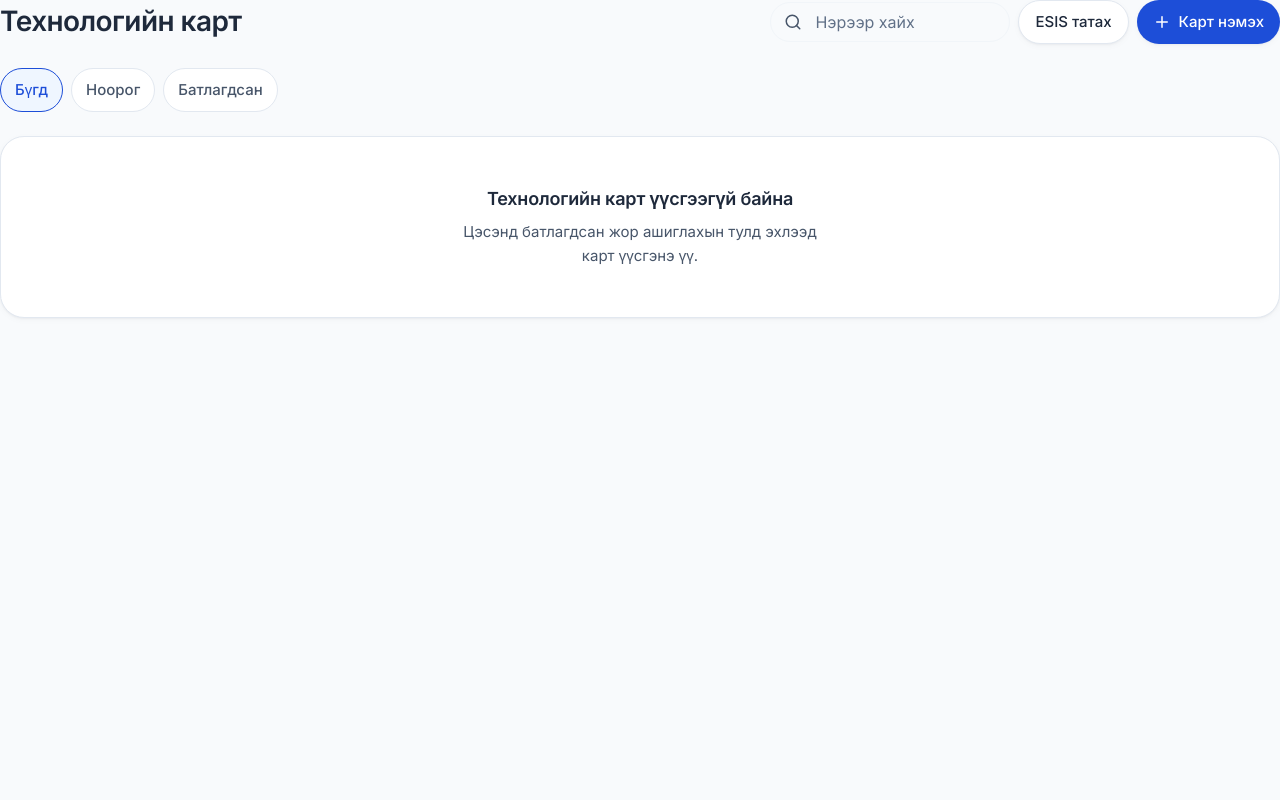
Scenario: ESIS-ээс татах on a new technology card › fills the name and lines, adds a missing material, and names a skipped one
The width and height of the screenshot is (1280, 800).
// Beside «Карт нэмэх», not inside it.
Step 1. Click the button "ESIS татах" → click(1074, 22), box [1018, 0, 1129, 44]
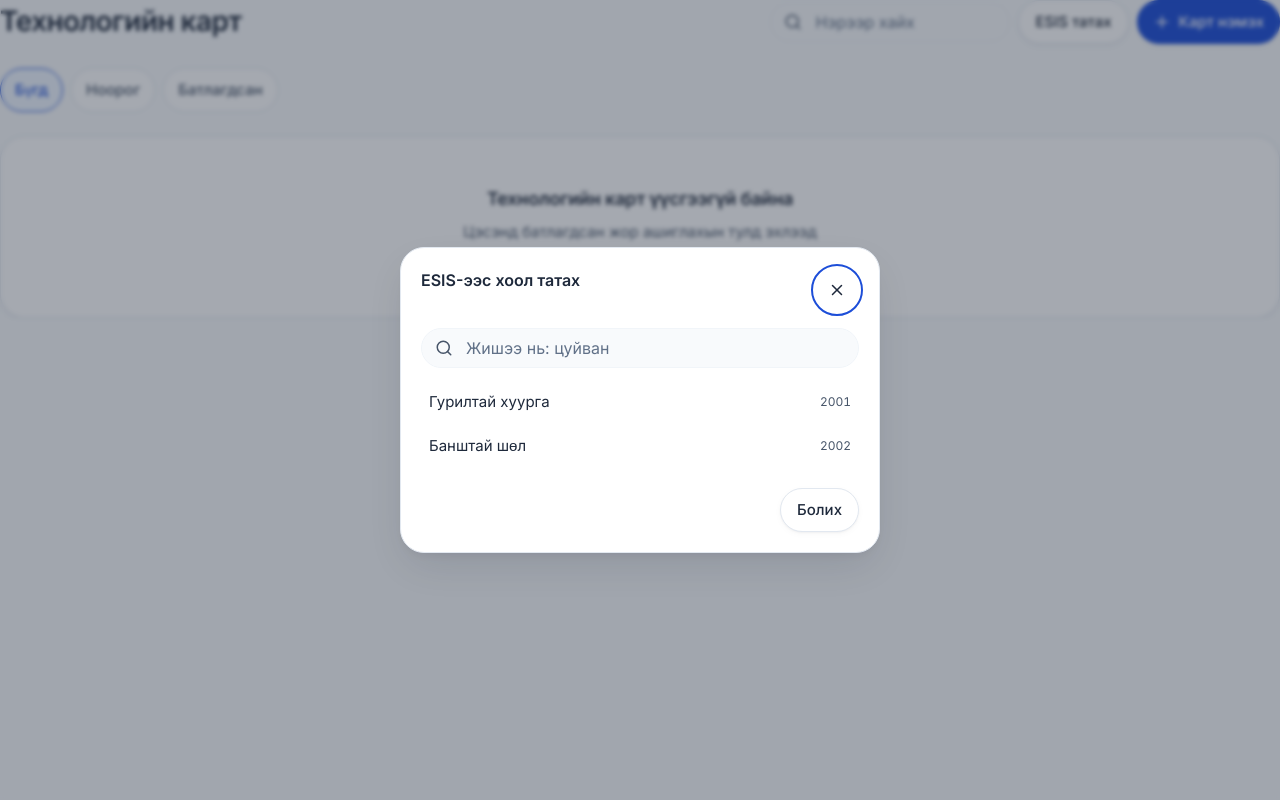
Step 2. Type "хуурга" into the search field named "Хоолны нэрээр хайх" → (640, 348), box [421, 328, 859, 368]
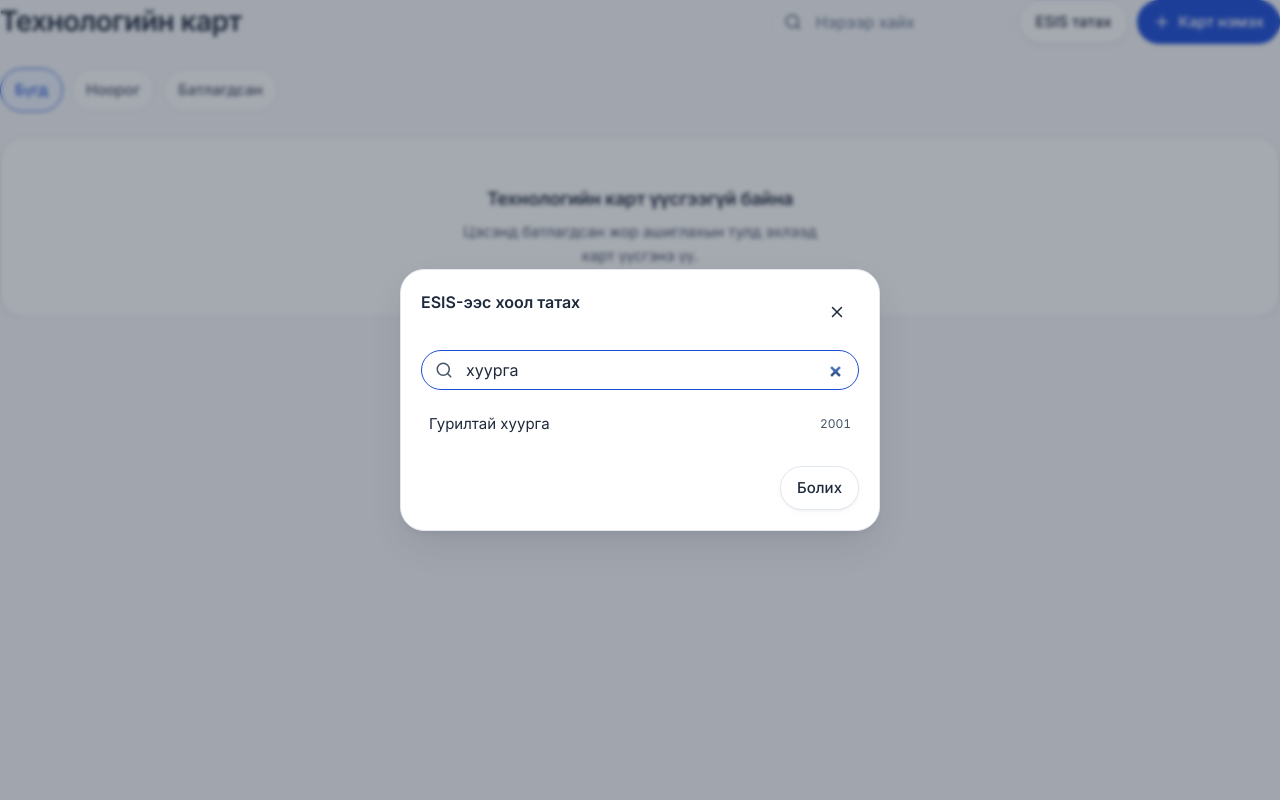
expect the button "Банштай шөл" is gone: met
Step 3. Click the button "Гурилтай хуурга 2001" → click(489, 423), box [421, 402, 859, 446]
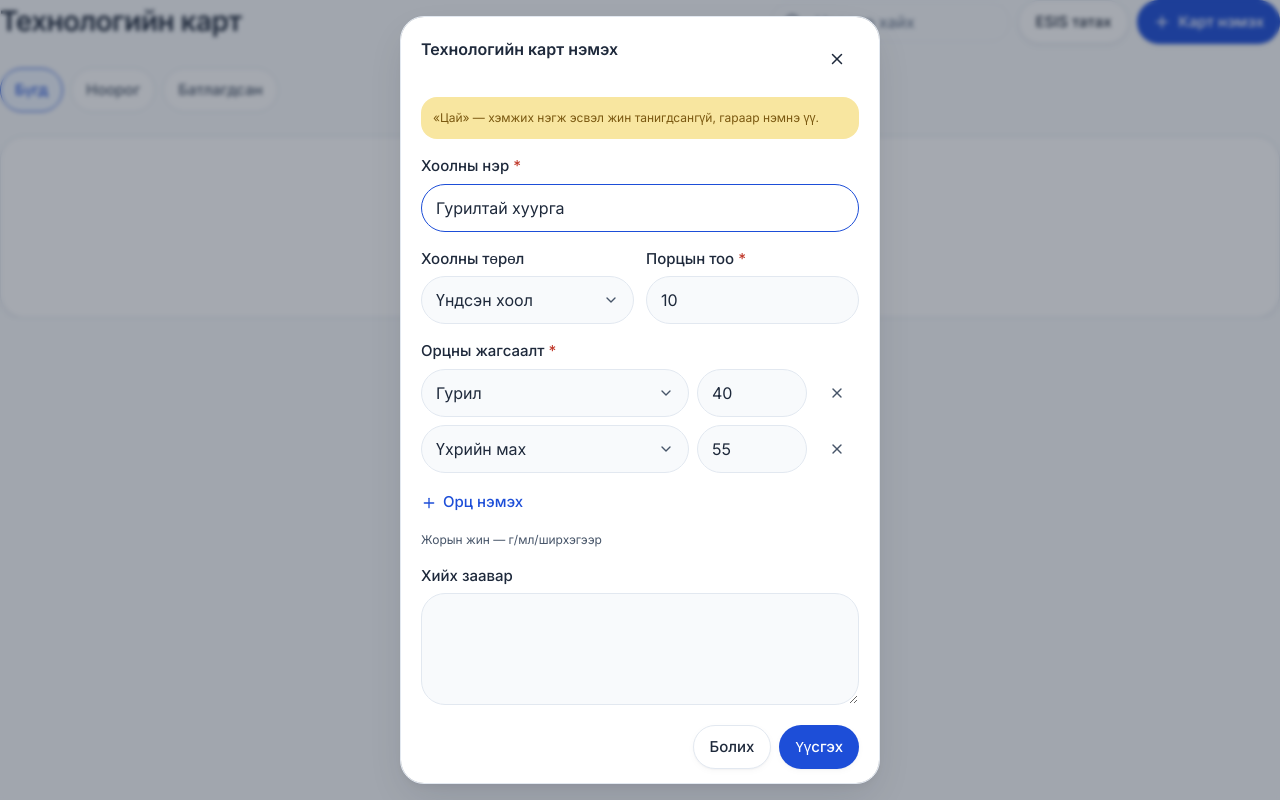
expect the field showing "Гурилтай хуурга" is shown: met, box [421, 184, 859, 232]
expect the number field showing "40" is shown: met, box [697, 368, 807, 416]
expect the number field showing "55" is shown: met, box [697, 424, 807, 472]
